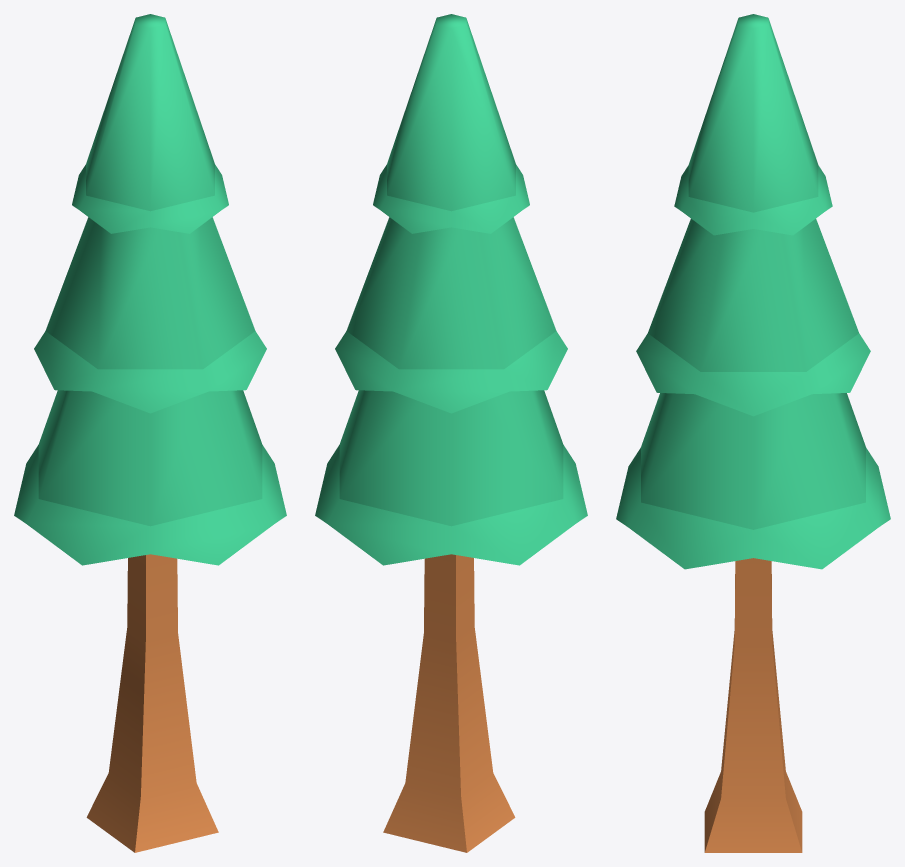
The model's file is treeLarge.obj.
The picture shows the model from 3 angles, left to right: view 1: azimuth 30°, elevation 25°; view 2: azimuth 150°, elevation 25°; view 3: azimuth 270°, elevation 25°; orthographic projection.
Parts seen in each view (by area): view 1: treeLarge; view 2: treeLarge; view 3: treeLarge.
Boxes of the visible parts, x1,y1,x2,y2 form: treeLarge: (14,14,286,852); treeLarge: (315,14,587,852); treeLarge: (616,14,890,852).
Size of the model in its own units: 0.5529 by 1.71 by 0.5262.
